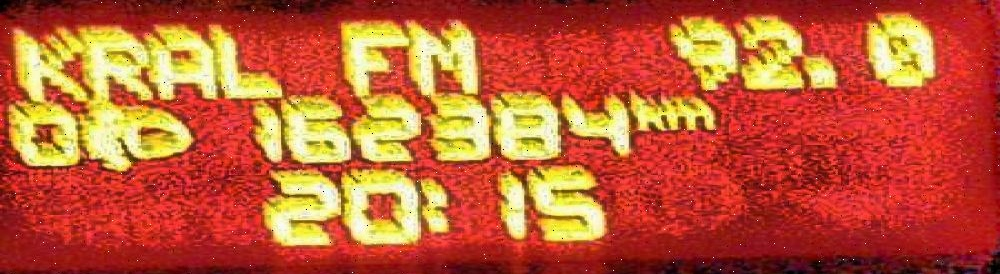-: (800, 52, 838, 91)
0: (335, 167, 417, 243), (862, 10, 935, 87), (4, 103, 79, 166)
1: (248, 98, 282, 163), (493, 171, 524, 240)
2: (262, 168, 337, 246), (737, 14, 802, 90), (351, 97, 420, 162)
3: (422, 96, 488, 161)
4: (562, 94, 631, 155)
5: (526, 165, 606, 240)
6: (280, 96, 349, 163)
8: (493, 90, 559, 159)
9: (664, 15, 735, 90)
X: (204, 21, 286, 98), (402, 19, 480, 95), (79, 23, 153, 101), (335, 18, 408, 96), (9, 22, 80, 102), (151, 25, 217, 100), (417, 177, 451, 232), (666, 96, 715, 132), (629, 93, 669, 131)
